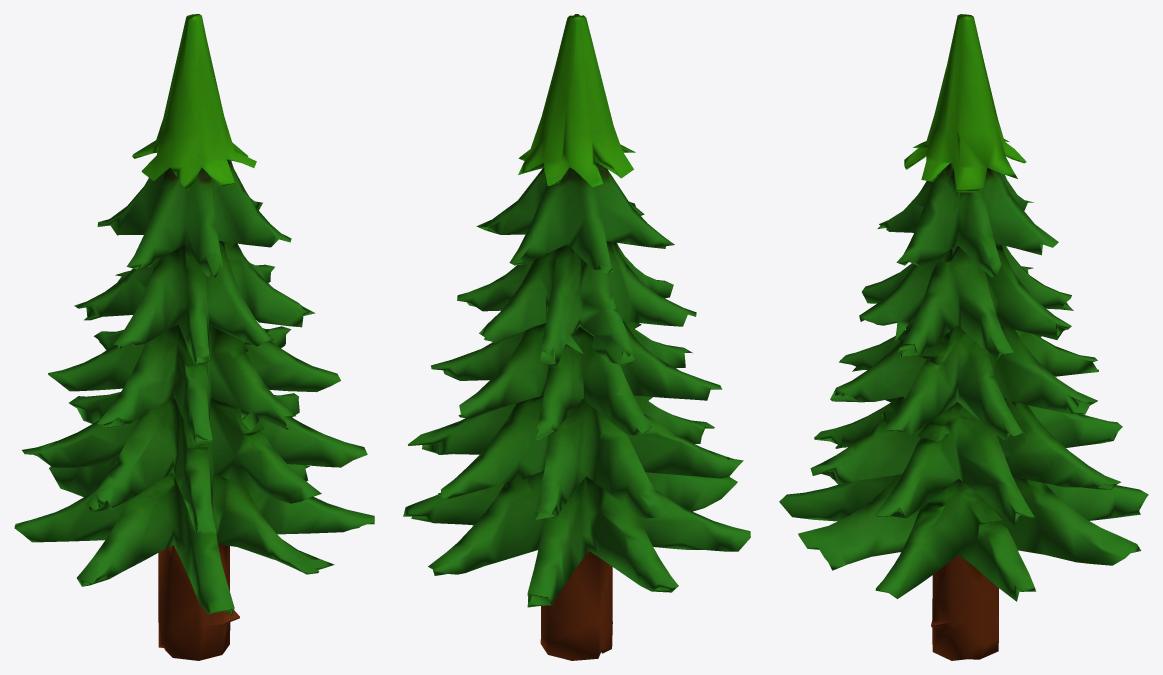
The model's file is tree.glb.
3 views of the same model, side by side, from view 1: azimuth 30°, elevation 25°; view 2: azimuth 150°, elevation 25°; view 3: azimuth 270°, elevation 25° (orthographic).
Visible parts, largest first — view 1: tripo_node_fac4a433-4392-41f2-ac4e-024ea1630cd0; view 2: tripo_node_fac4a433-4392-41f2-ac4e-024ea1630cd0; view 3: tripo_node_fac4a433-4392-41f2-ac4e-024ea1630cd0.
Part boxes in pixels (x1,y1,x2,y2): tripo_node_fac4a433-4392-41f2-ac4e-024ea1630cd0: (14,14,374,660); tripo_node_fac4a433-4392-41f2-ac4e-024ea1630cd0: (403,14,750,660); tripo_node_fac4a433-4392-41f2-ac4e-024ea1630cd0: (779,14,1148,660).
Bounding box in the file's own units: 0.4815 × 1 × 0.5321.
1 material, 1 textured.
